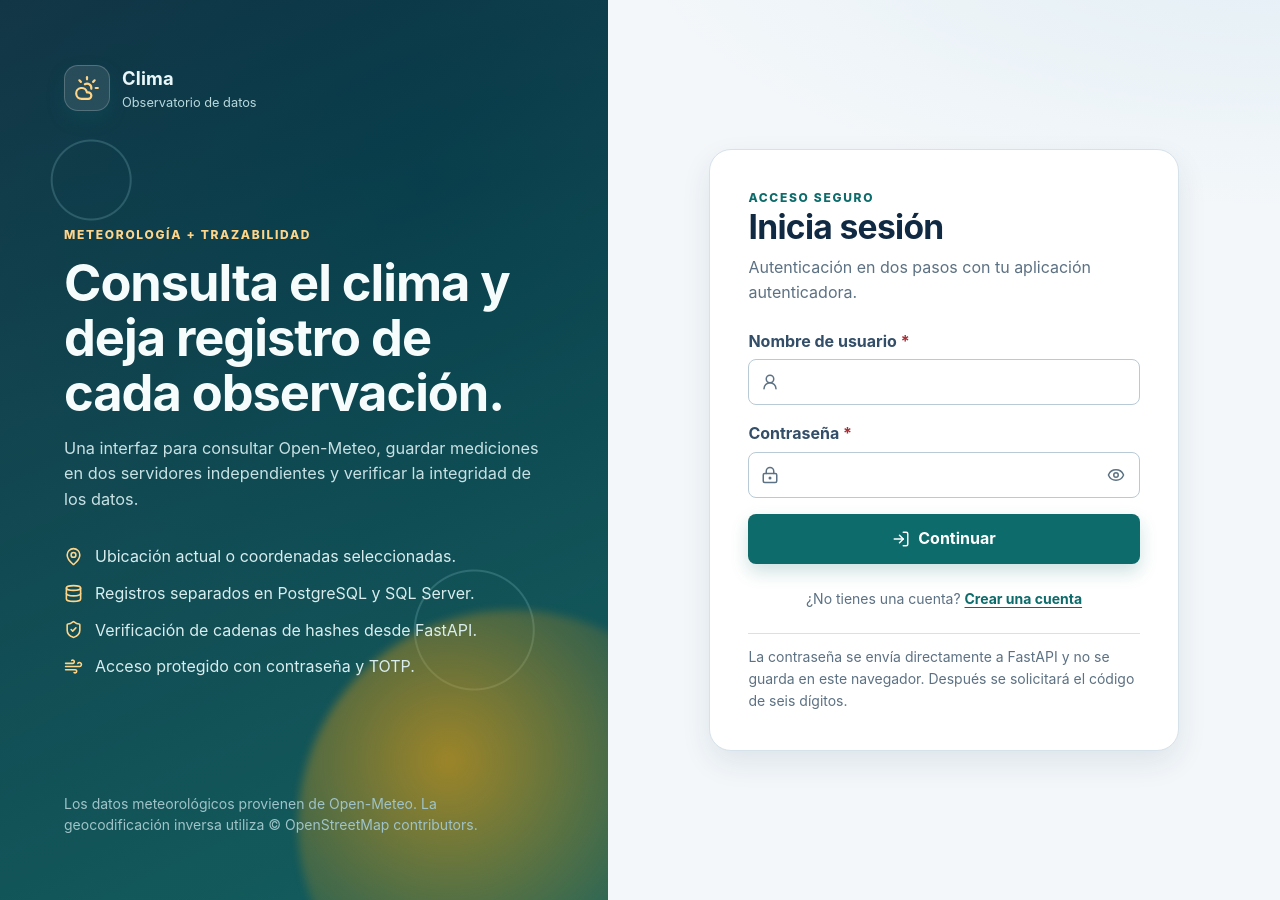
flujo de autenticación › informa credenciales incorrectas sin crear sesión
The width and height of the screenshot is (1280, 900).
Expected: the heading "Inicia sesión" is shown, [748, 206, 944, 247]
Step 1. Type "ana" into the field labelled "Nombre de usuario *" → (944, 382), box [748, 359, 1140, 405]
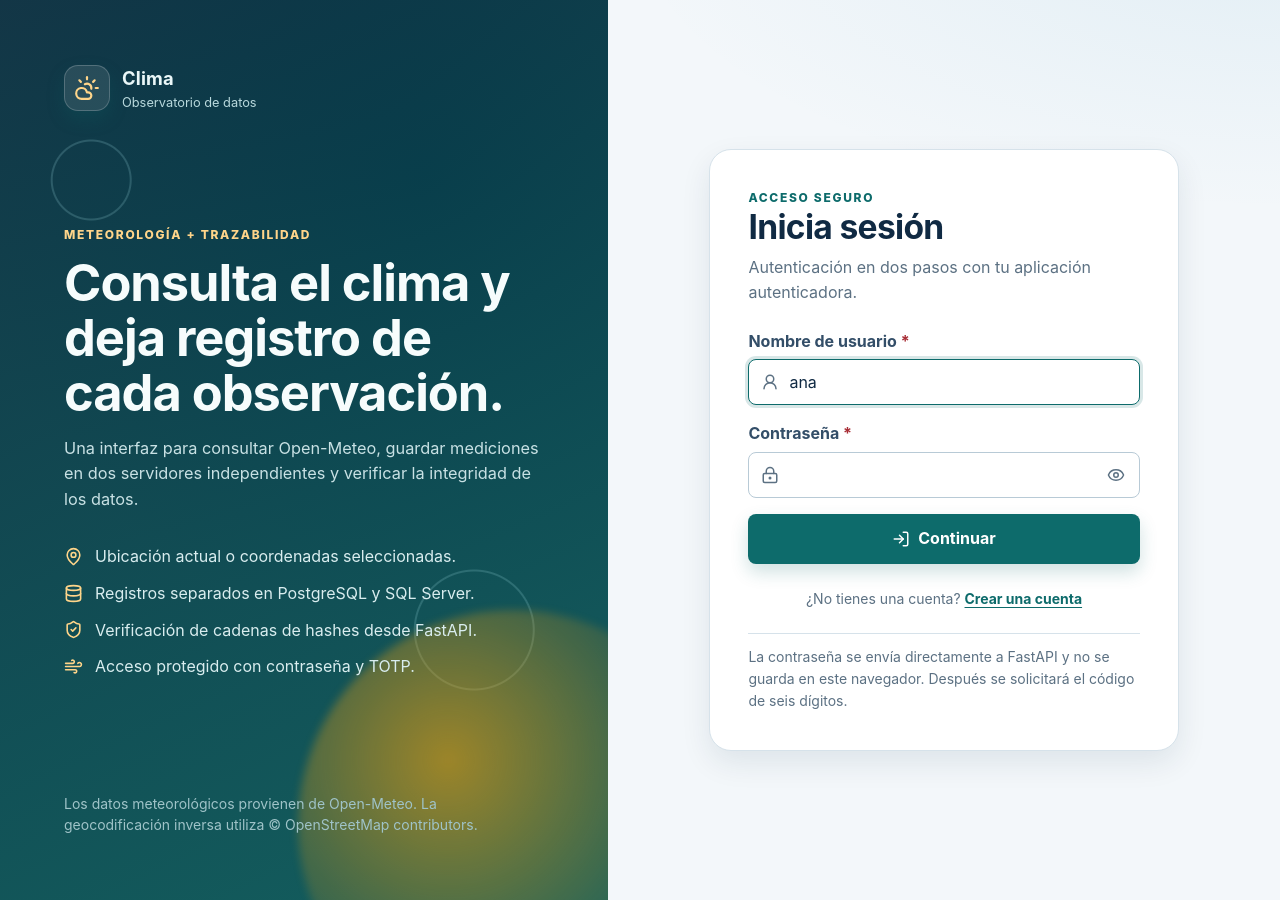
Step 2. Type "mal" into the password field labelled "Contraseña *" → (944, 475), box [748, 452, 1140, 498]
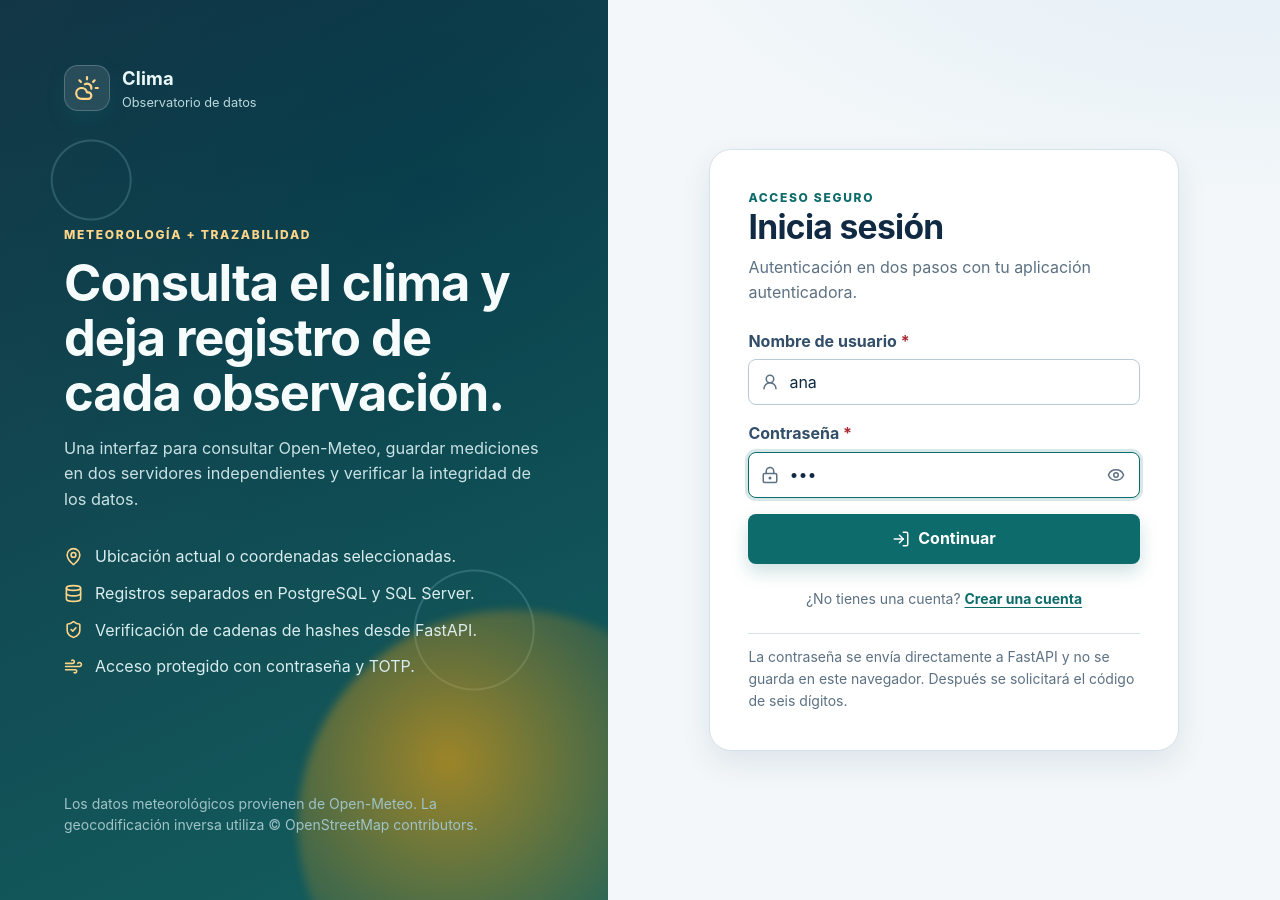
Step 3. Click the button "Continuar" → (944, 539), box [748, 514, 1140, 564]
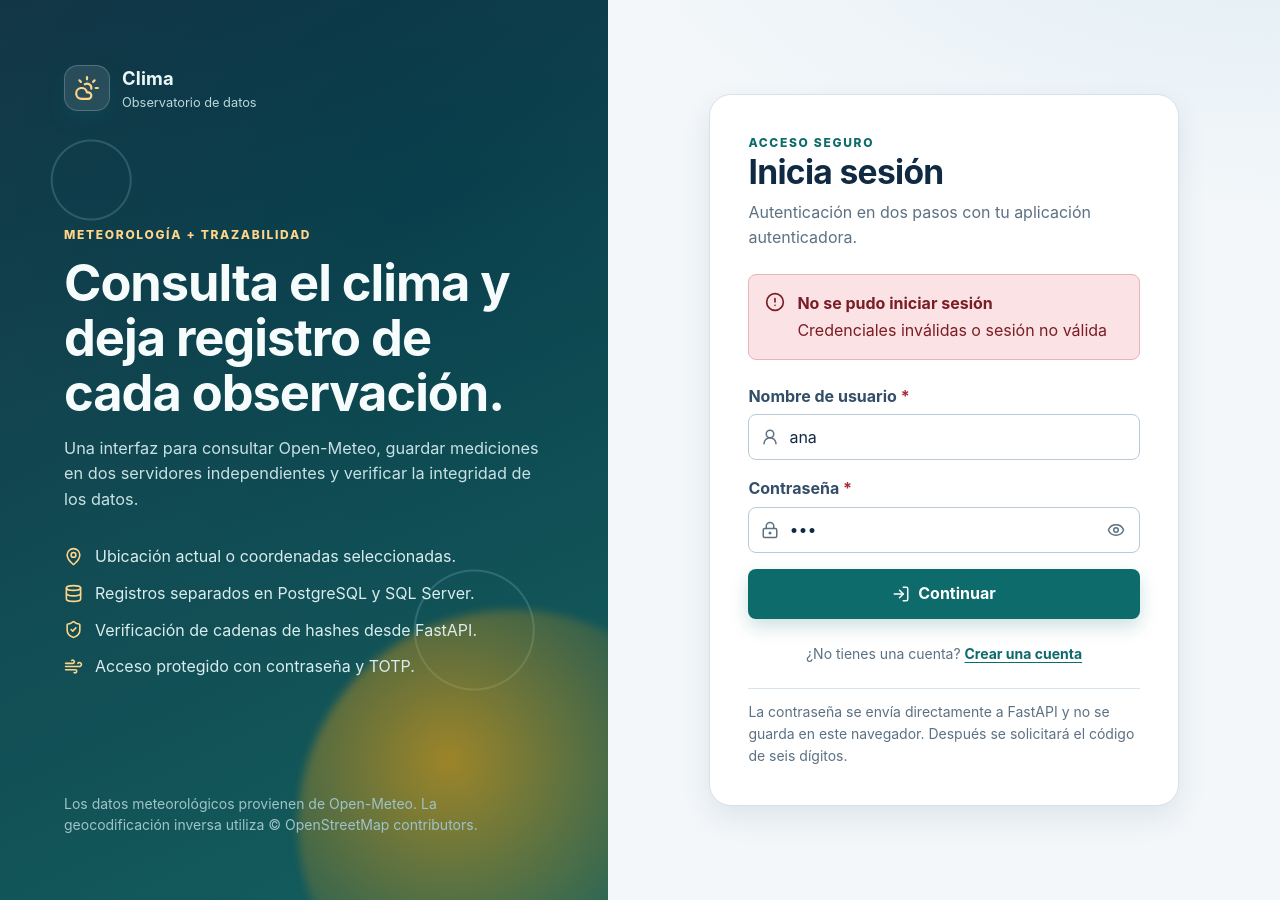
Now the text "Credenciales inválidas o sesión no válida" is shown, box [797, 318, 1111, 343]
